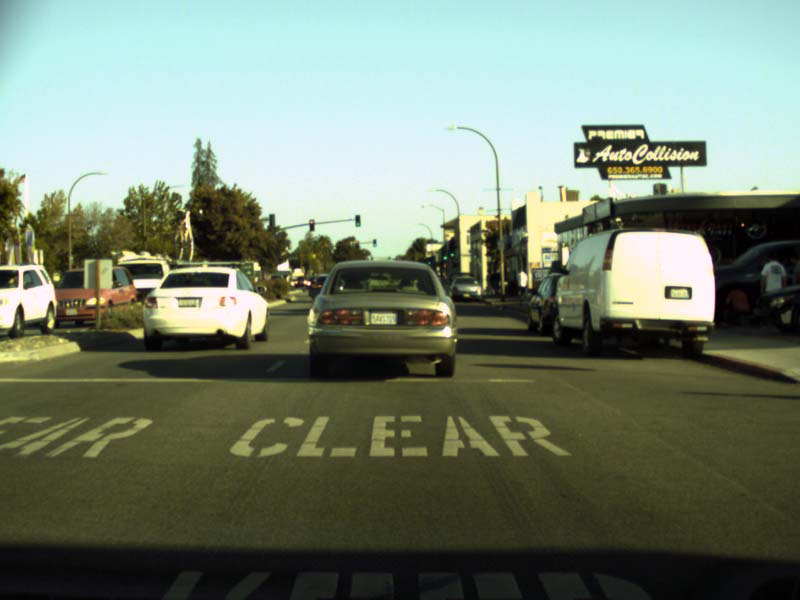Green: (355, 214, 360, 226), (442, 250, 447, 261), (449, 246, 454, 257), (427, 260, 431, 264), (373, 239, 375, 246)
Red: (309, 220, 313, 230), (356, 241, 357, 247)
